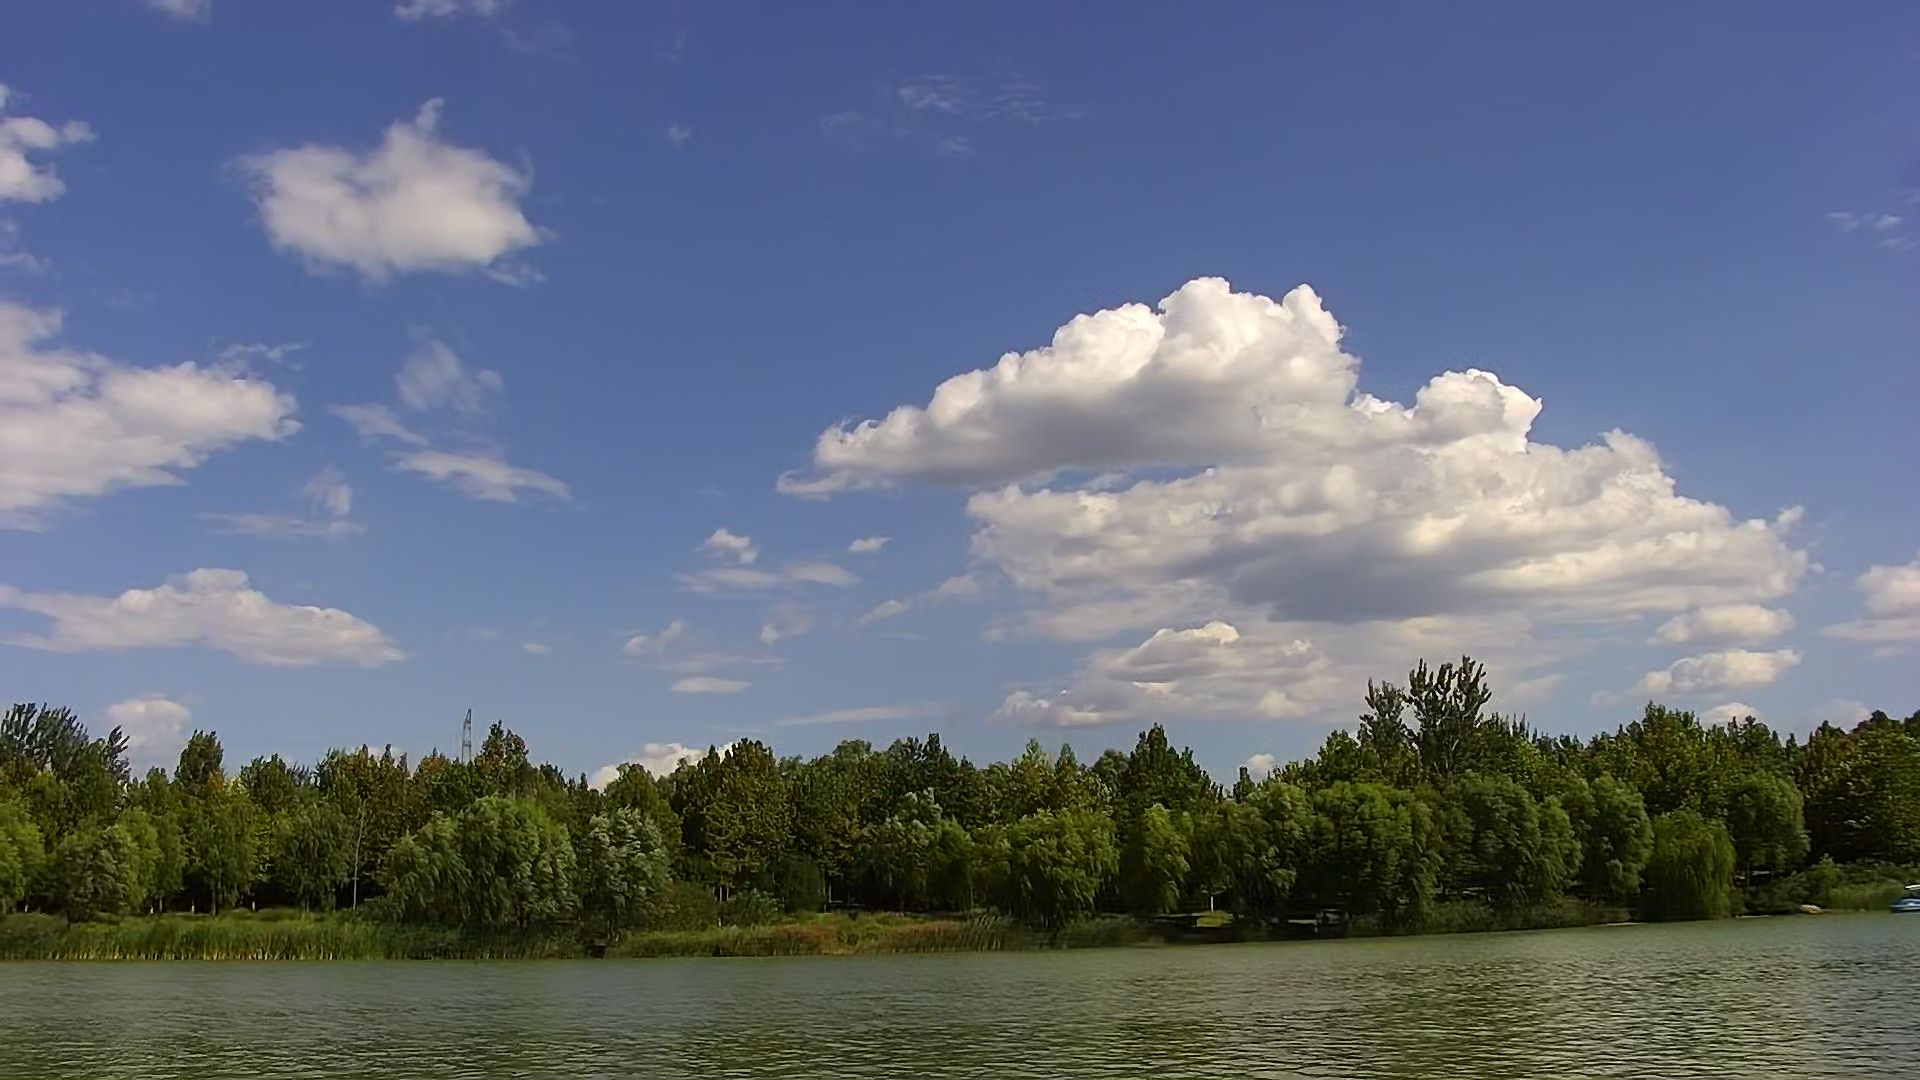boat: (1895, 876, 1920, 913)
